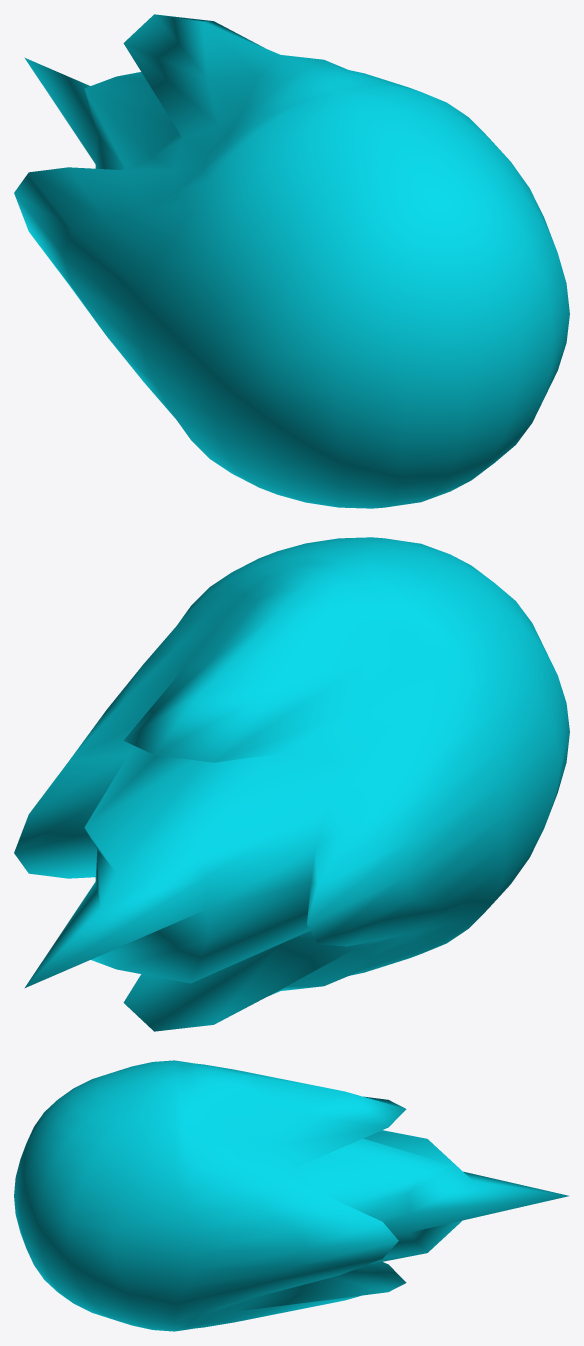
File: Electric_shot.fbx
3 views of the same model, one above another, from view 1: azimuth 30°, elevation 25°; view 2: azimuth 150°, elevation 25°; view 3: azimuth 270°, elevation 25° (orthographic). The views are drawn at different scales.
Visible parts, largest first — view 1: pSphere1; view 2: pSphere1; view 3: pSphere1.
Part boxes in pixels (left/top/right/bottom): pSphere1: left=14, top=14, right=569, bottom=508; pSphere1: left=14, top=537, right=569, bottom=1031; pSphere1: left=14, top=1060, right=568, bottom=1331.
Size of the model in its own units: 0.9845 by 1.02 by 2.06.
